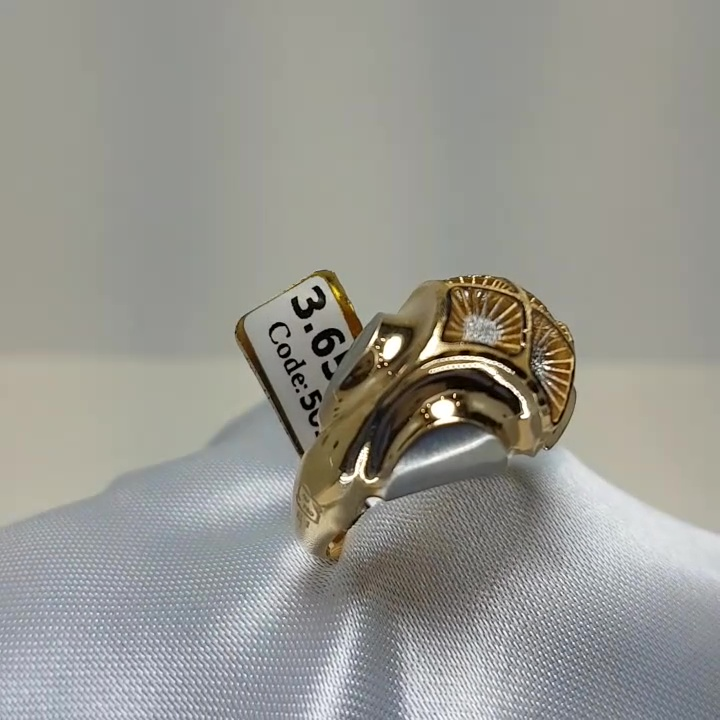Ring 2: (248, 256, 622, 589)
